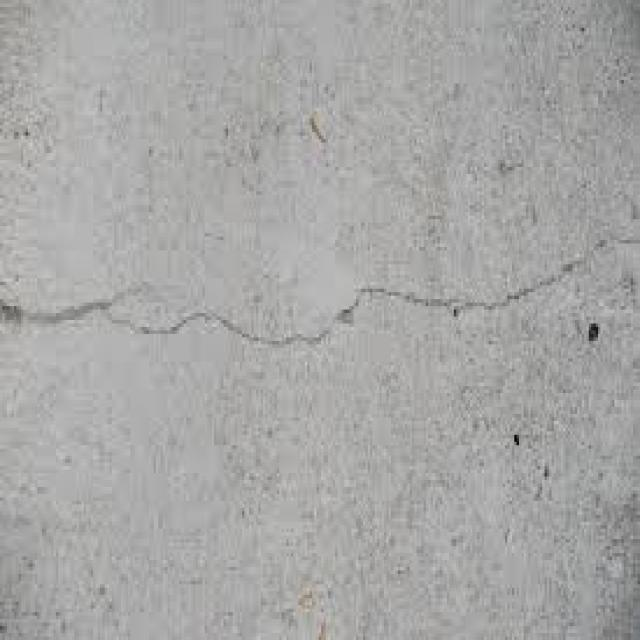crack: (4, 237, 639, 354)
